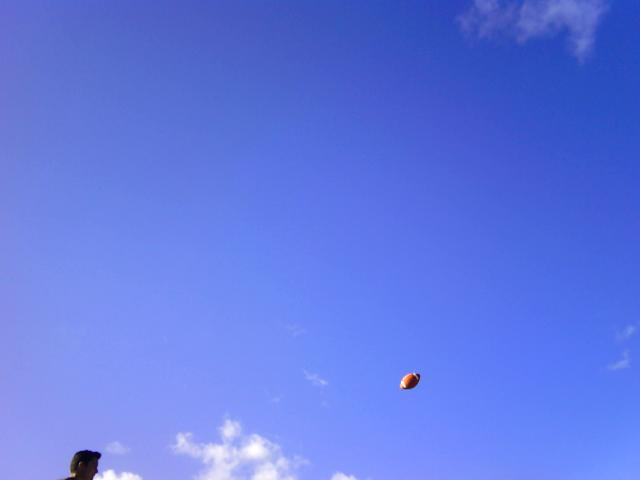football: (399, 371, 422, 393)
